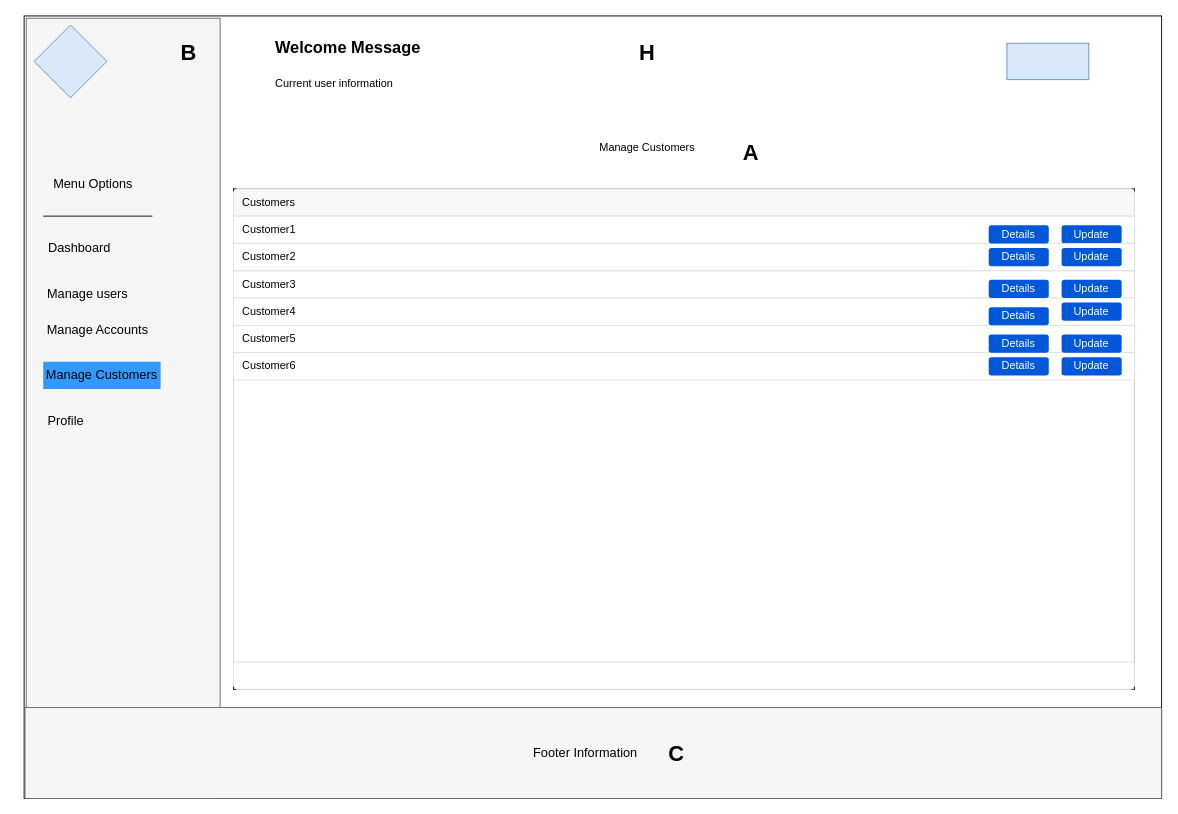
Some shapes in this 1178 by 814 pixel diagram are drawn without their labels. The shapes that lost their labels are listed below. From the top down, each one's box as (x1, y1, x2, y2) in pixels, then its label:
(33, 24, 107, 98): LOGO
(1006, 42, 1089, 80): Logout
